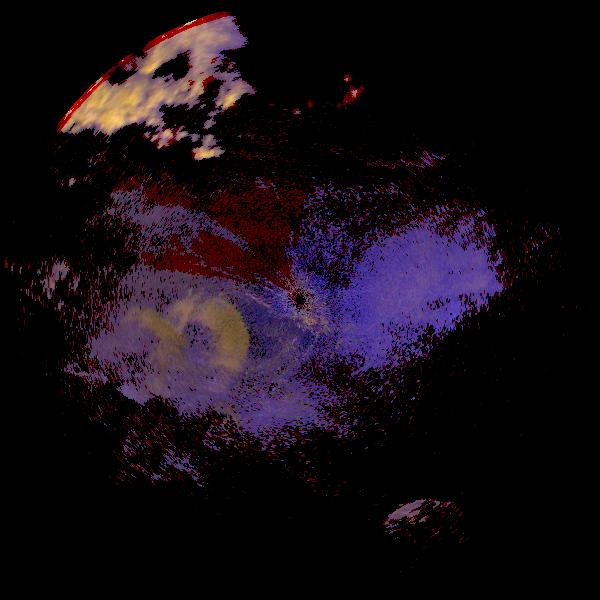roost: (56, 238, 293, 475)
